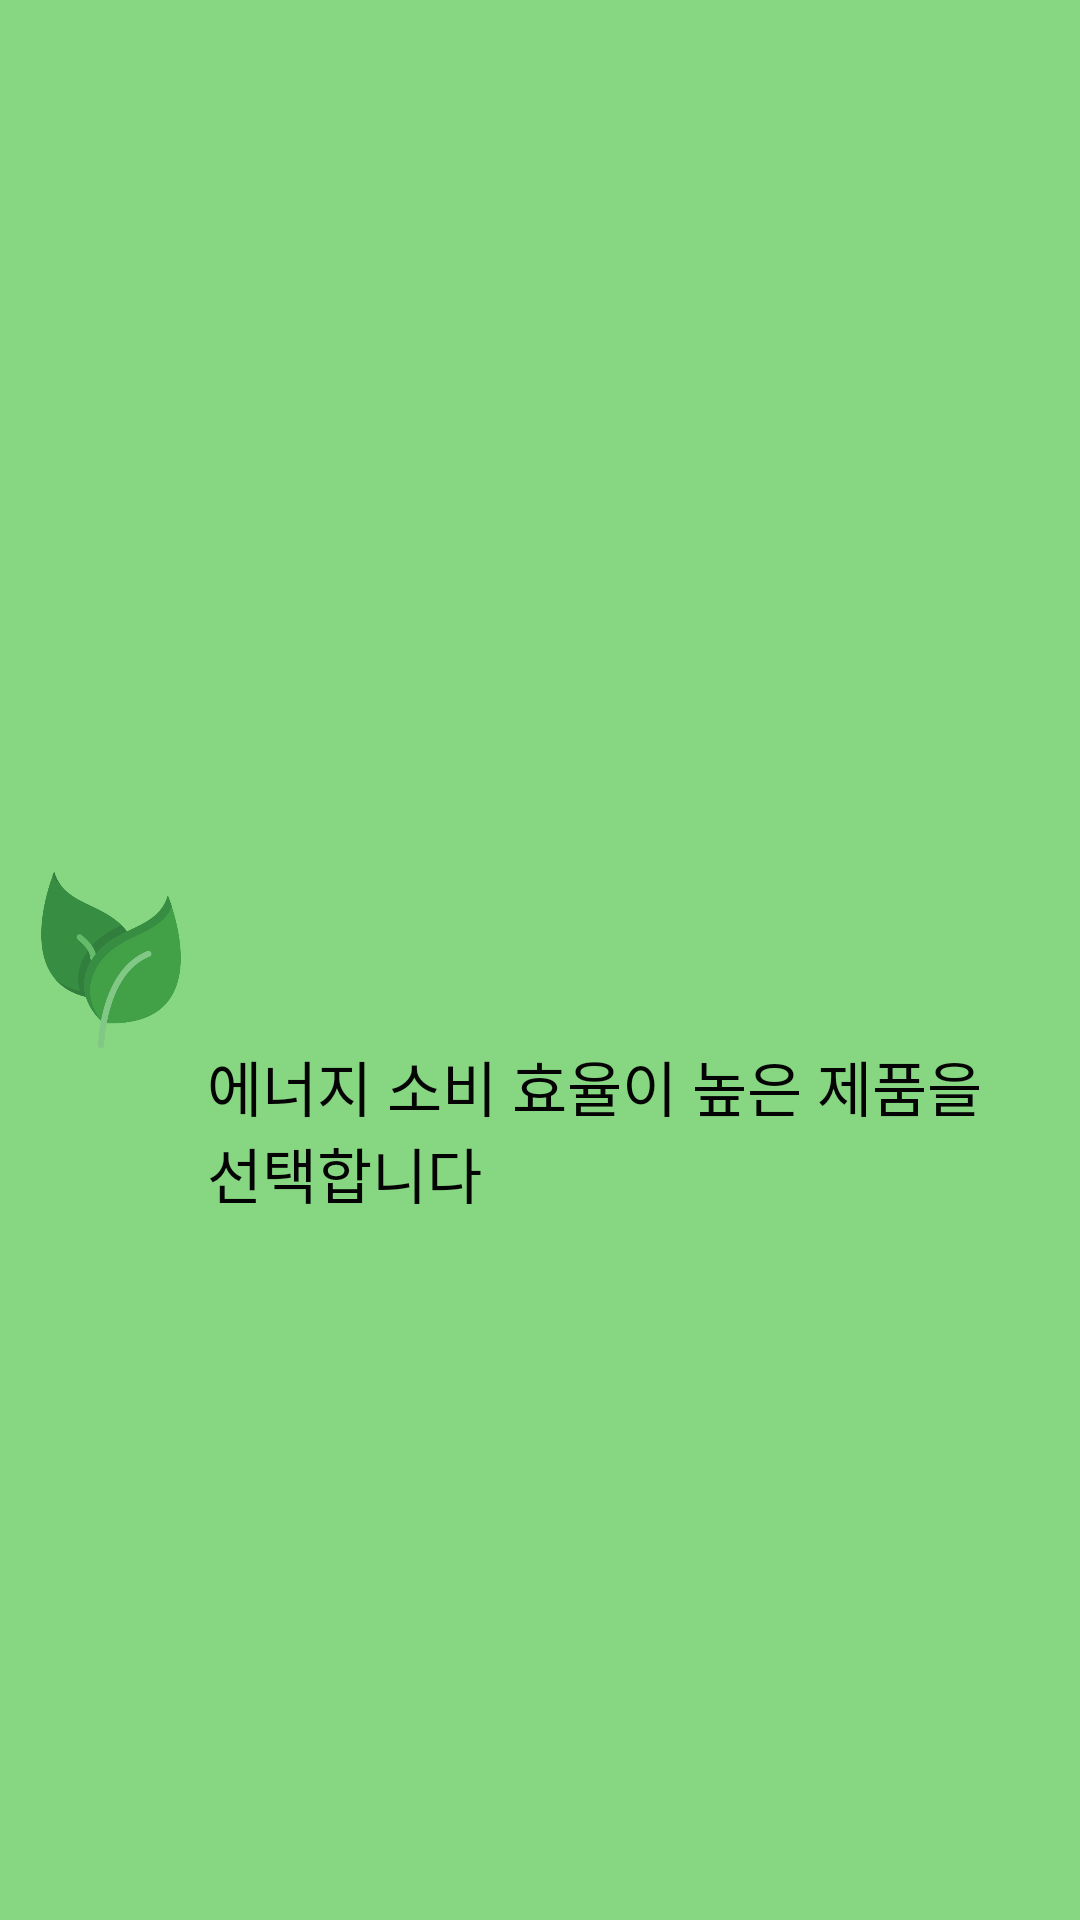

Icons on this 1080w x 1920h Android screen, each with the point to tap as point (x, y):
iconleaf: point (111, 947)
